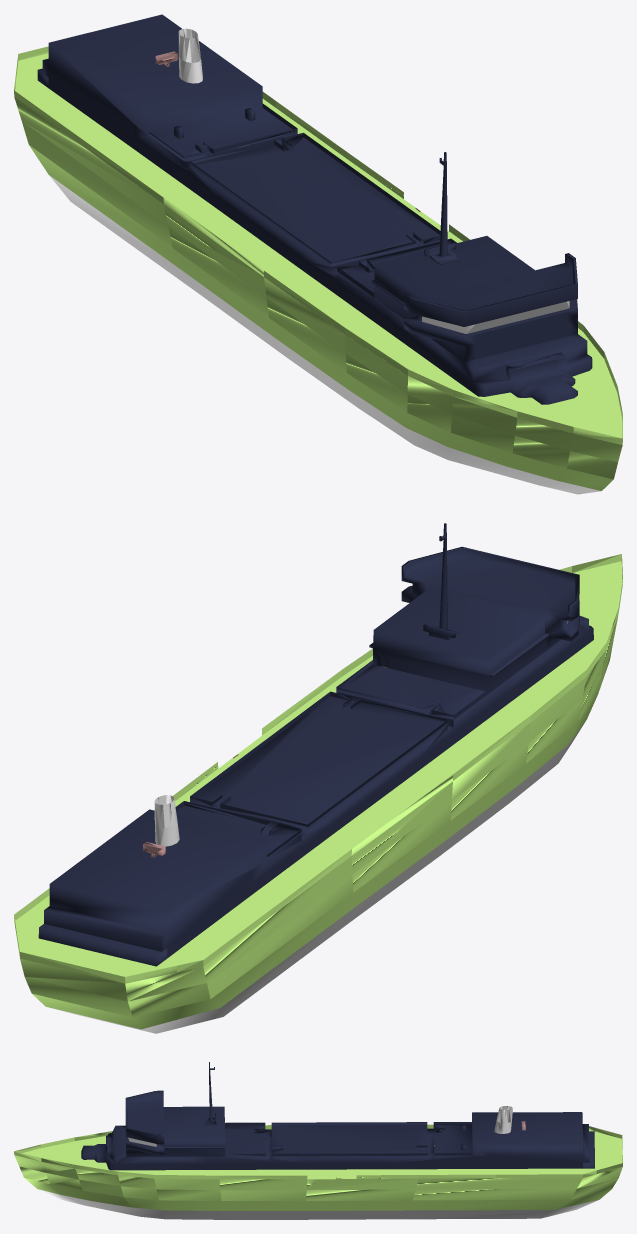
File: ship.obj
3 views of the same model, one above another, from view 1: azimuth 30°, elevation 25°; view 2: azimuth 150°, elevation 25°; view 3: azimuth 270°, elevation 25° (orthographic). The views are drawn at different scales.
Parts seen in each view (by area): view 1: Bridge, Hull, Floor, Hull_Low, Smoke, Glass; view 2: Bridge, Hull, Floor, Hull_Low, Smoke; view 3: Bridge, Hull, Floor, Hull_Low, Smoke.
Part boxes in pixels (x1,y1,x2,y2): Bridge: [37, 14, 592, 404]; Hull: [14, 46, 622, 490]; Floor: [15, 53, 622, 438]; Hull_Low: [49, 175, 601, 494]; Smoke: [178, 28, 202, 83]; Glass: [422, 301, 569, 333]; Bridge: [38, 523, 593, 966]; Hull: [14, 554, 622, 1029]; Floor: [15, 561, 622, 976]; Hull_Low: [51, 721, 585, 1033]; Smoke: [154, 795, 179, 846]; Bridge: [81, 1062, 594, 1170]; Hull: [14, 1124, 622, 1210]; Floor: [22, 1129, 622, 1179]; Hull_Low: [38, 1189, 598, 1219]; Smoke: [494, 1106, 512, 1133].
Bounding box in the file's own units: 0.4282 × 0.5333 × 2.14.
